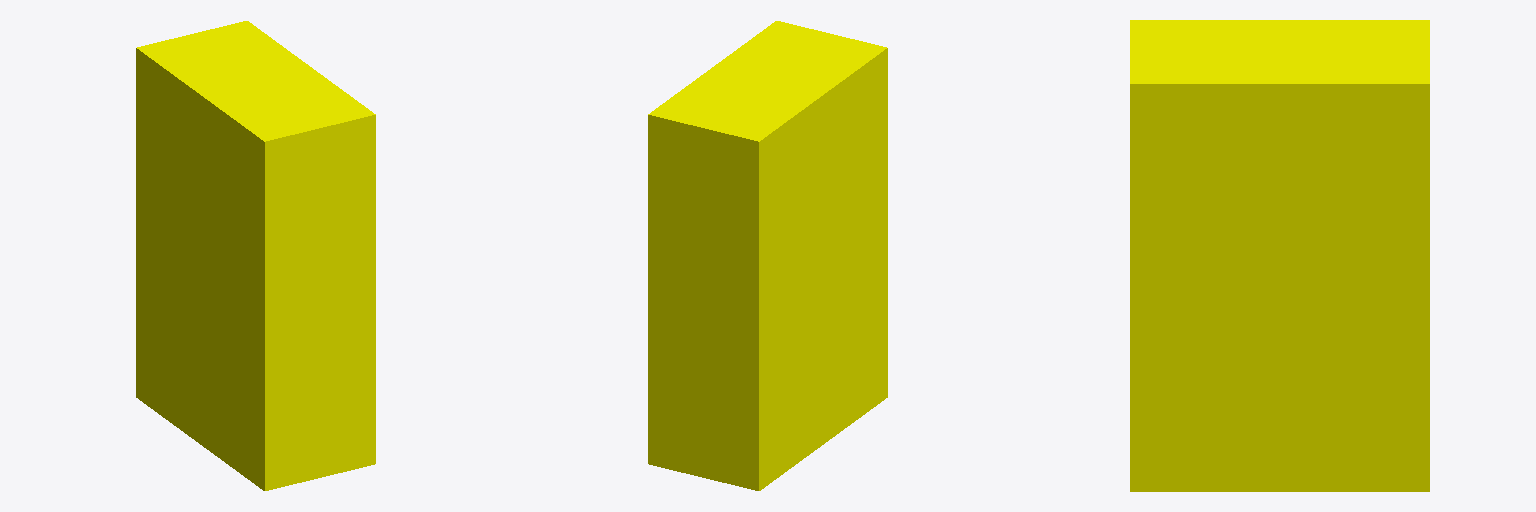
URDF robot description (cube):
<?xml version="1.0" ?>
<robot name="cube">
  <link name="cube_base_link">
    <contact>
      <restitution value="0.1"/>
      <lateral_friction value="0.5"/>
      <contact_cfm value="0.0"/>
      <contact_erp value="1.0"/>
    </contact>
    <inertial>
      <origin rpy="0 0 0" xyz="0 0 0"/>
       <mass value="0.05"/>
       <inertia ixx="0.0001041666667" ixy="0" ixz="0" iyy="0.00005208333333" iyz="0" izz="0.0001354166667"/>
    </inertial>
    <visual>
      <origin rpy="0 0 0" xyz="0 0 0"/>
      <geometry>
		<box size="0.05 0.10 0.15"/>
      </geometry>
       <material name="yellow">
        <color rgba="1 1 0 1"/>
      </material>
    </visual>
    <collision>
      <origin rpy="0 0 0" xyz="0 0 0"/>
      <geometry>
	 	<box size="0.05 0.10 0.15"/>
      </geometry>
    </collision>
  </link>
</robot>

--- Render facts (derived) ---
3 views of the same robot in one strip: view 1: azimuth 30°, elevation 25°; view 2: azimuth 150°, elevation 25°; view 3: azimuth 270°, elevation 25° (orthographic).
Robot: cube — 1 links, 0 joints (none); root link cube_base_link; default pose: every joint at zero.
Links seen in each view (by area): view 1: cube_base_link; view 2: cube_base_link; view 3: cube_base_link.
Link boxes in pixels (<box>): cube_base_link: <box>136,21,375,490</box>; cube_base_link: <box>648,21,887,490</box>; cube_base_link: <box>1130,20,1429,491</box>.
Bounding box of the posed robot: 0.05 × 0.1 × 0.15 m (x, y, z).
Geometry: primitives only (box / cylinder / sphere), no mesh files.